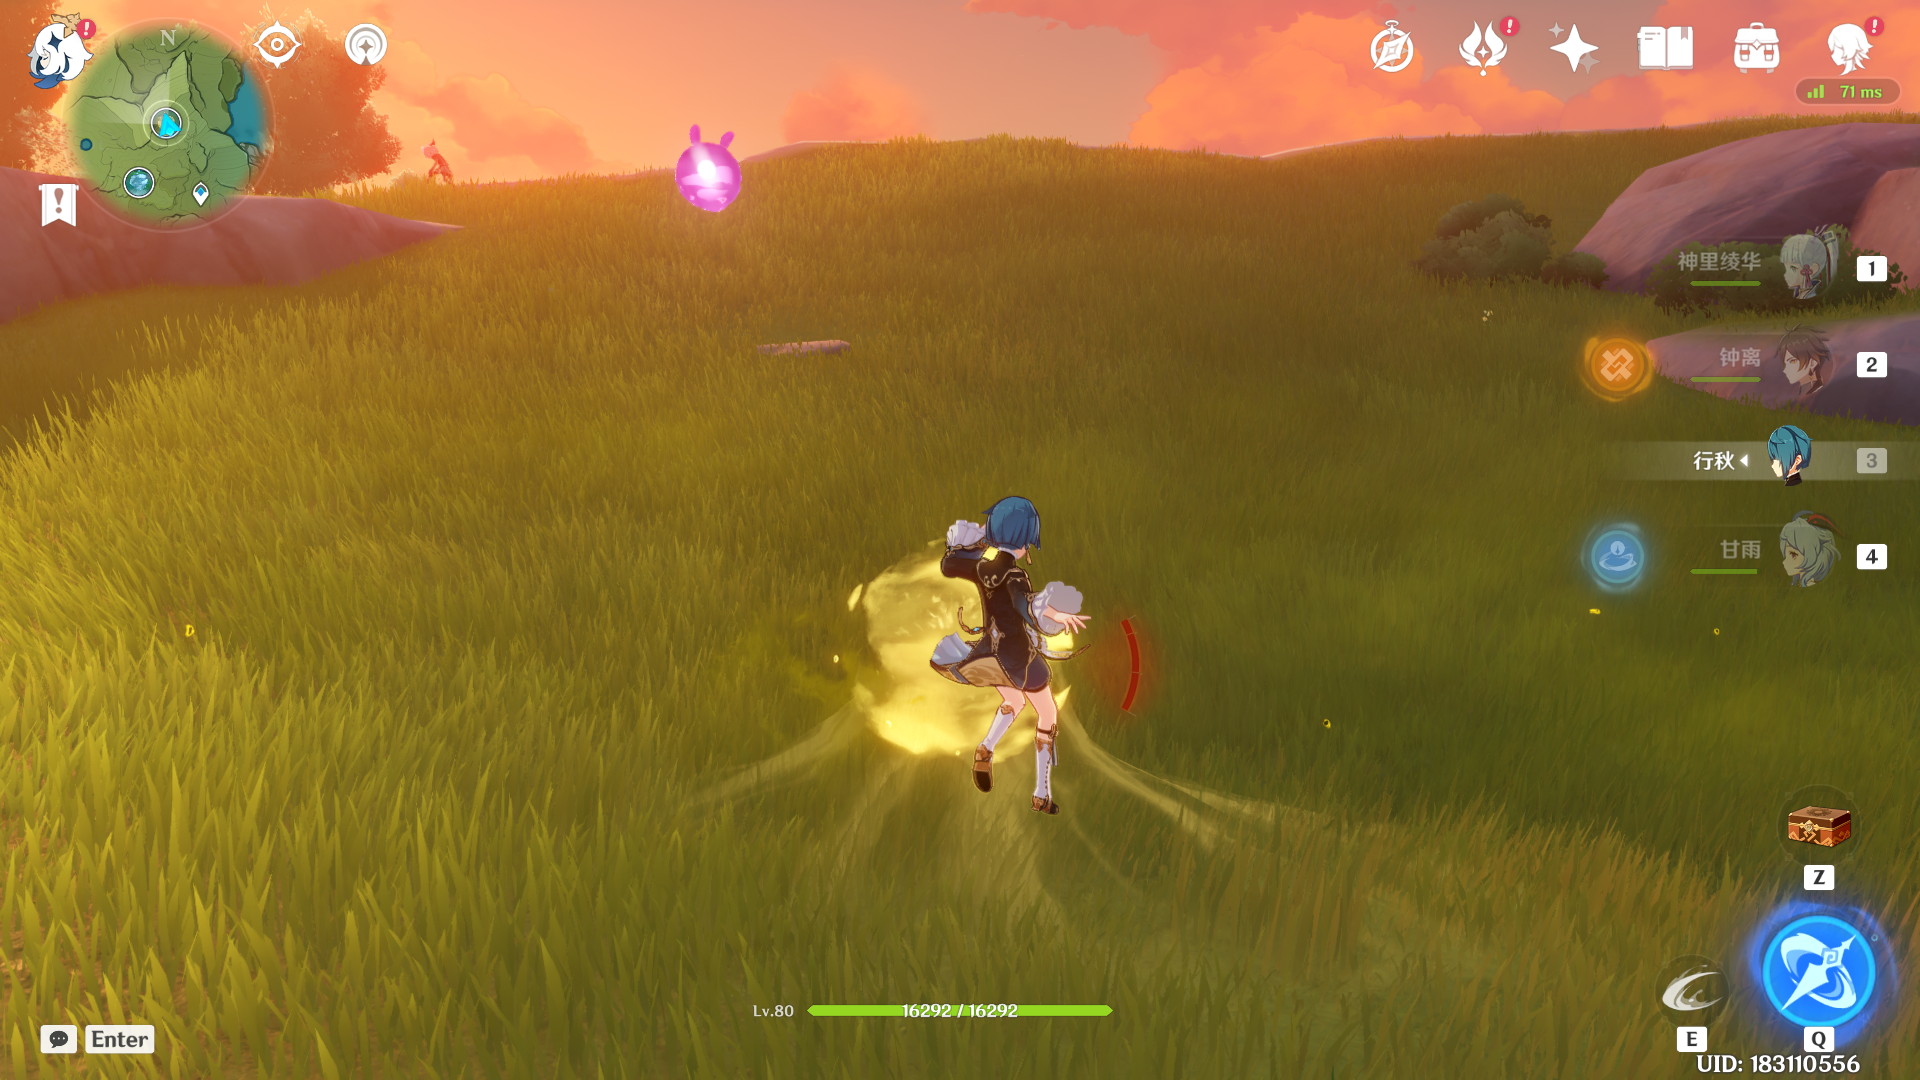character: (909, 429, 1151, 835)
